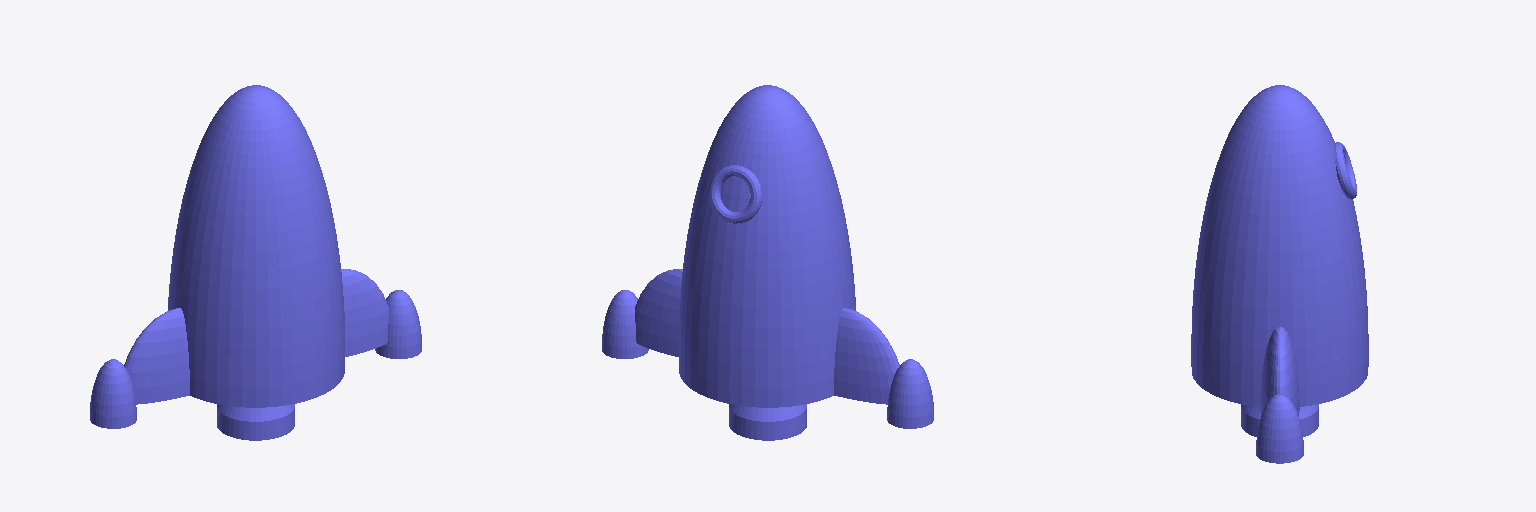
The picture shows the model from 3 angles: view 1: azimuth 30°, elevation 25°; view 2: azimuth 150°, elevation 25°; view 3: azimuth 270°, elevation 25°; orthographic projection.
Visible parts, largest first — view 1: Sphere; view 2: Sphere; view 3: Sphere.
Part boxes in pixels (left/top/right/bottom): Sphere: left=90, top=85, right=421, bottom=440; Sphere: left=602, top=85, right=933, bottom=440; Sphere: left=1191, top=85, right=1368, bottom=463.
Size of the model in its own units: 9.33 by 9.18 by 4.39.
Materials: 11 (1 with a texture image).